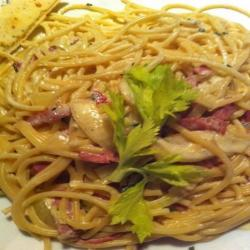carbonara: (9, 17, 249, 246)
